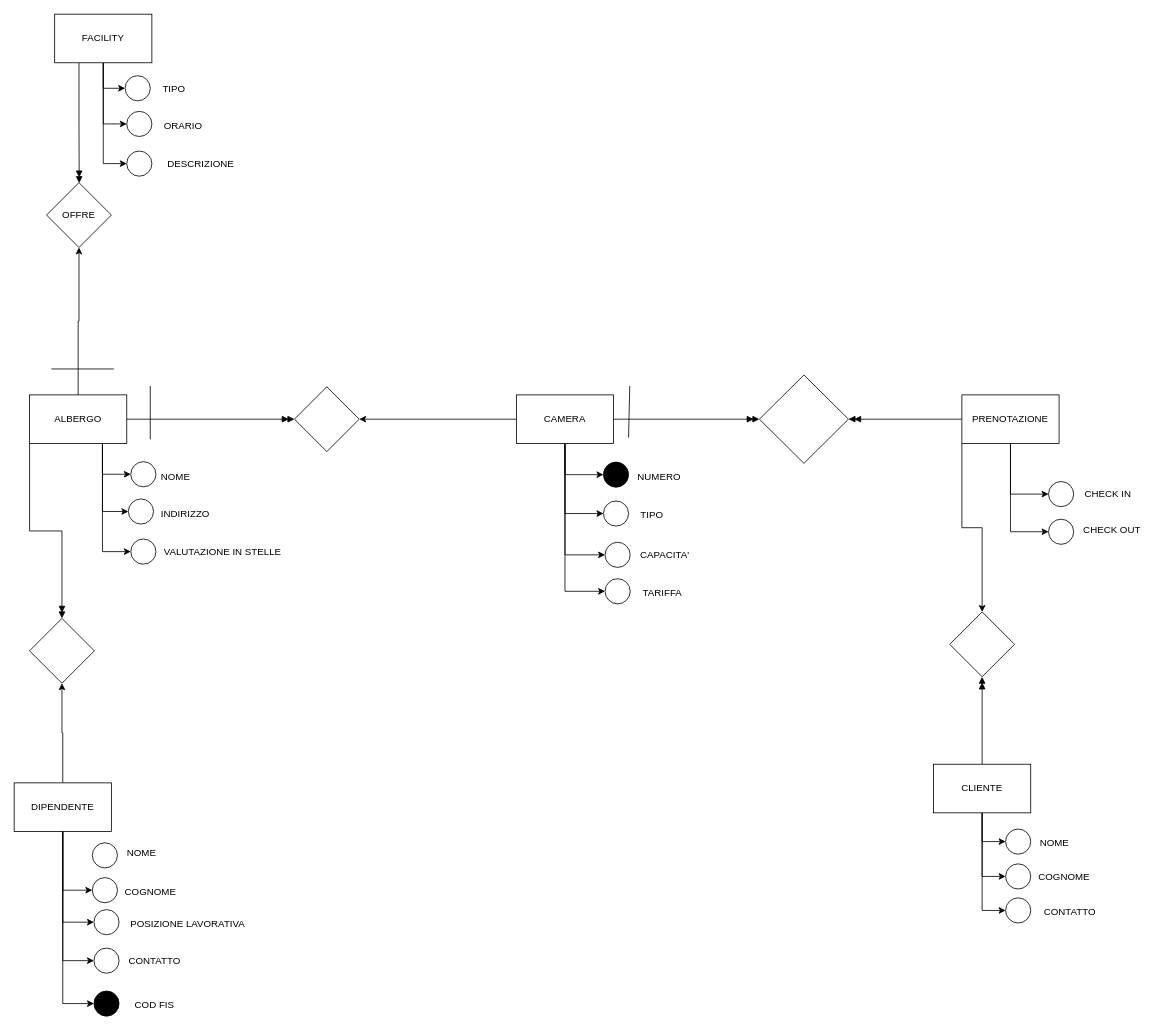
Some shapes in this 1162 by 1030 pixel diagram are drawn without their labels. Here are the shapes that lost their labels. From the top down, the centre of each, then its label:
(x=326, y=419): OSPITA
(x=803, y=418): OCCUPATA
(x=61, y=650): IMPIEGA
(x=982, y=644): EFFETTUA
